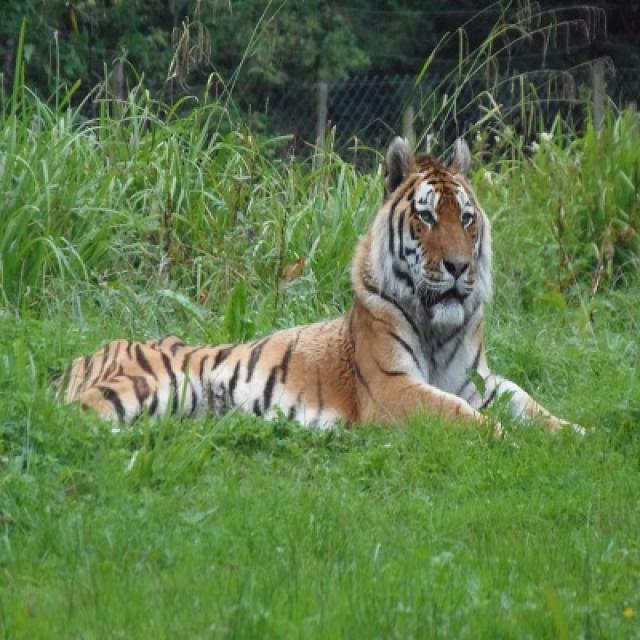Tiger: (58, 136, 566, 427)
